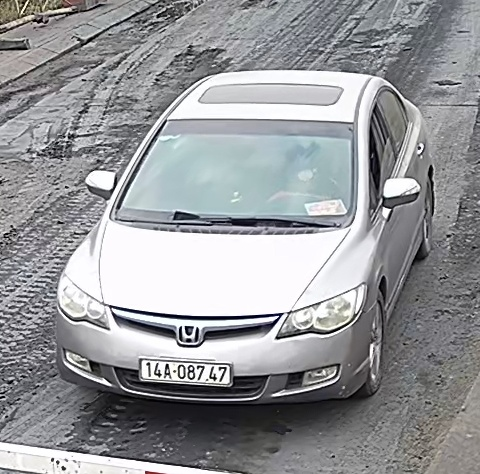vehicle plate: (137, 353, 233, 388)
